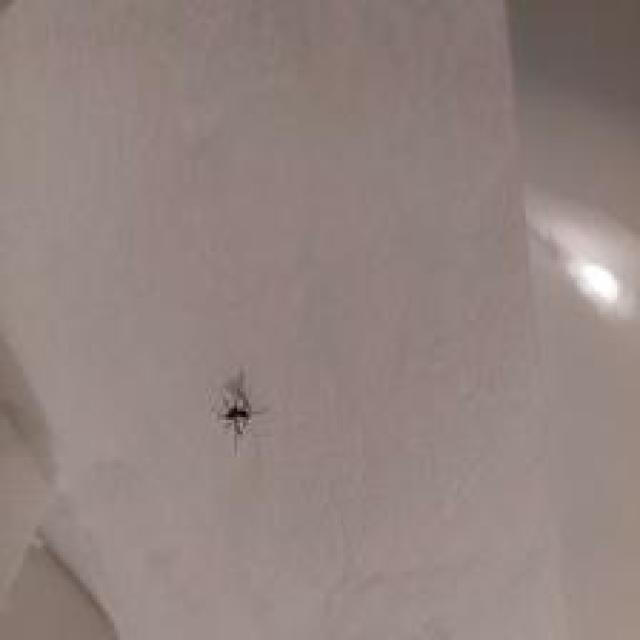Aedes albopictus: (210, 367, 267, 456)
